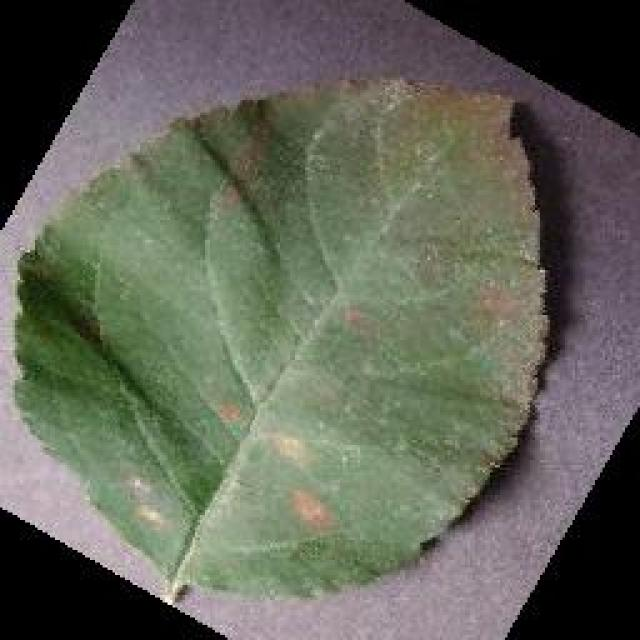apple rust disease: (10, 72, 555, 602)
